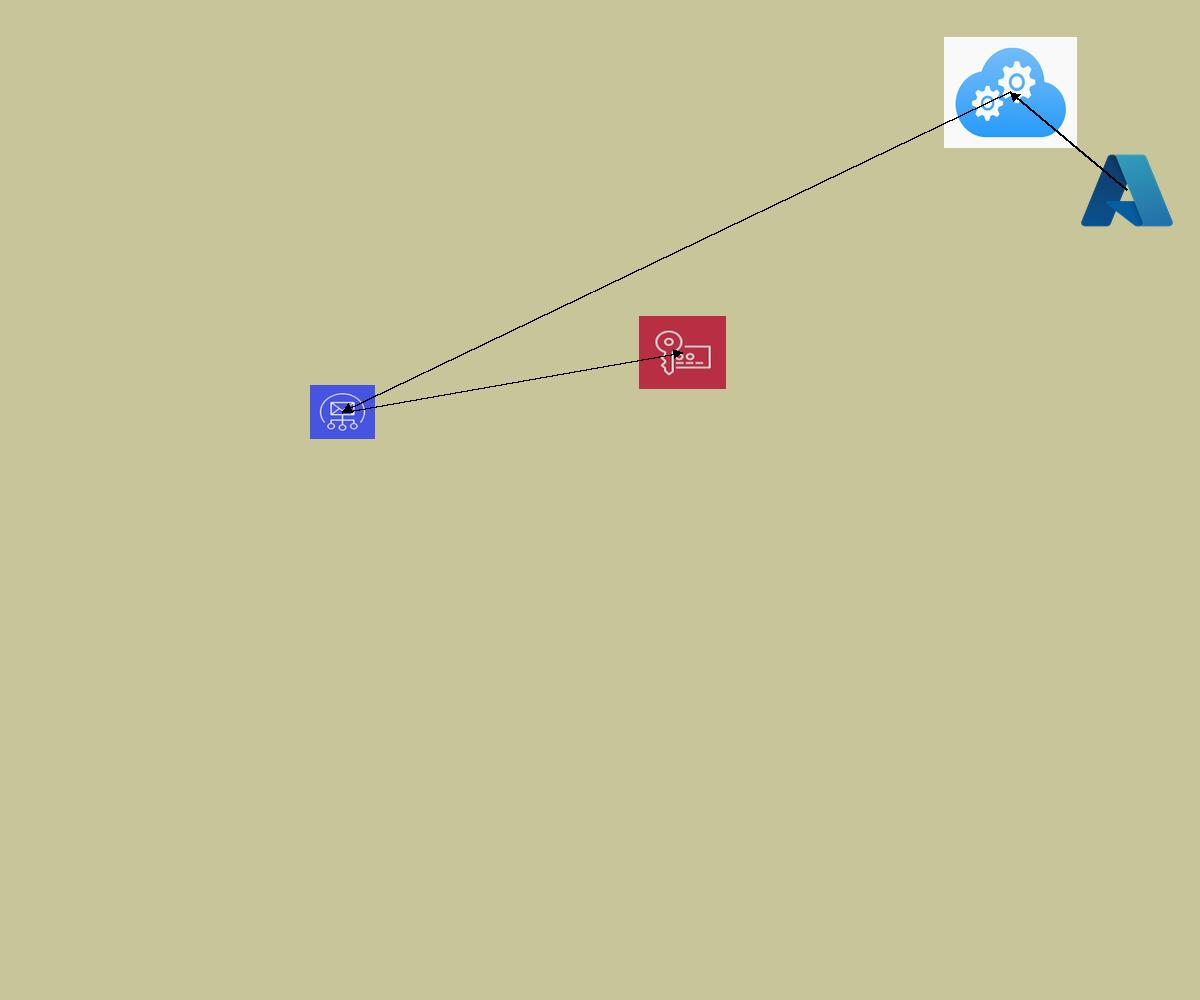AWS-Key-Management-Service: (639, 316, 726, 389)
AWS-Simple-Email-Service: (310, 385, 375, 439)
Azure_cloud_services: (944, 37, 1077, 148)
Azure_services: (1077, 149, 1177, 232)
